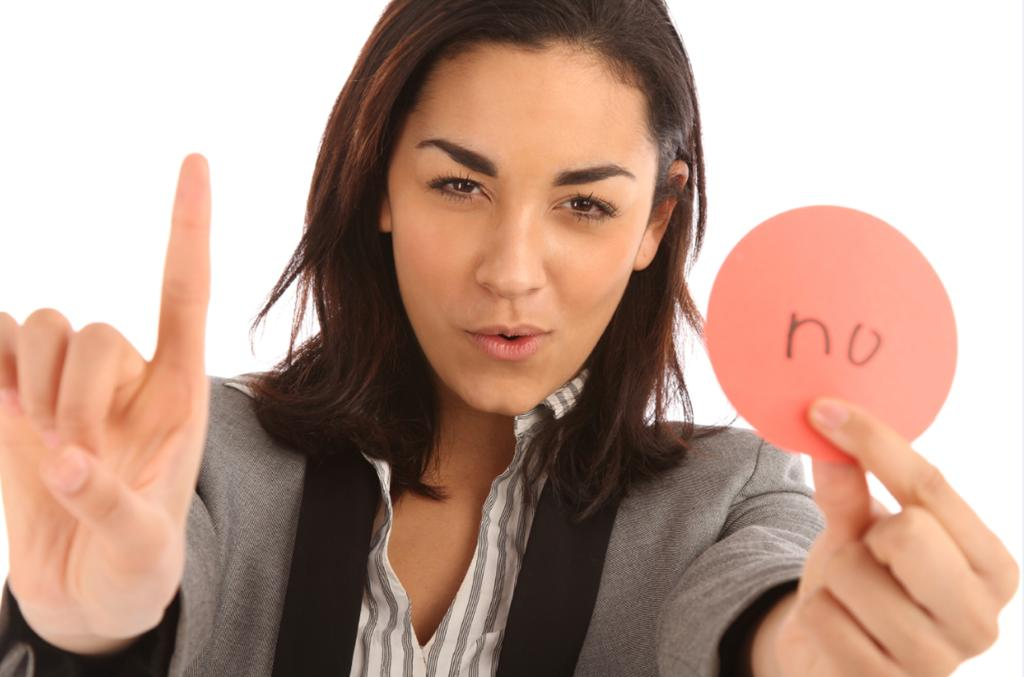Persons: (301, 1, 737, 412)
